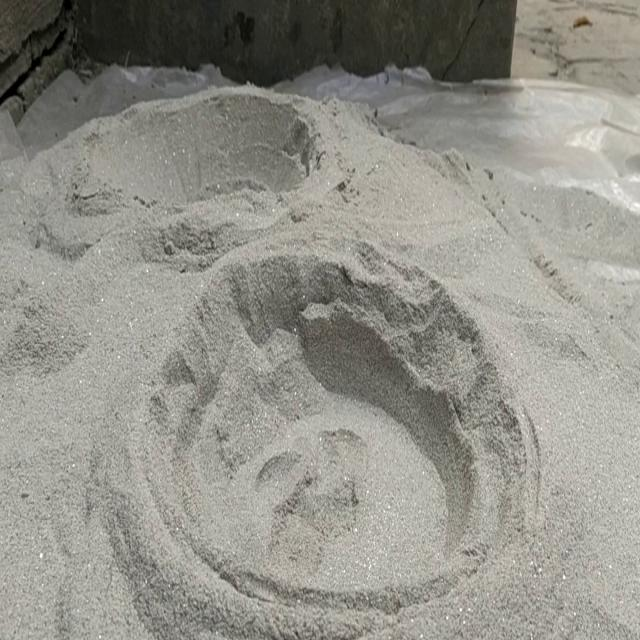C20: (148, 253, 524, 609), (108, 93, 314, 204)
